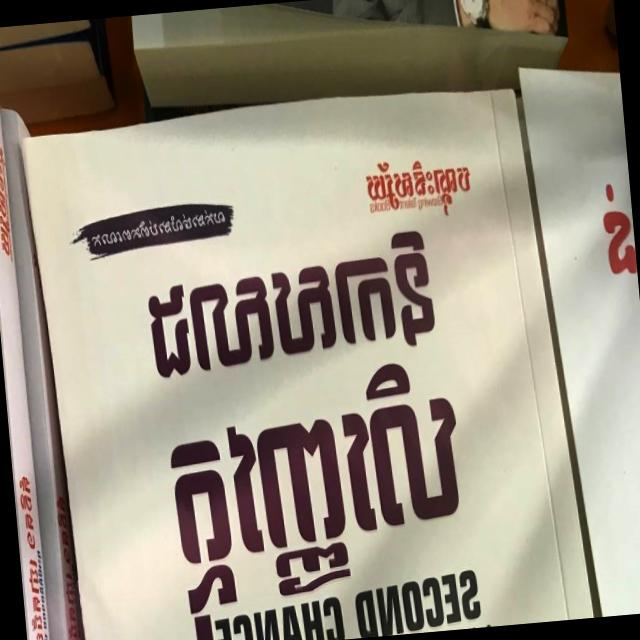Yolov11_80vkh: (160, 355, 469, 614), (143, 229, 441, 389), (86, 196, 229, 260), (360, 156, 474, 224)
